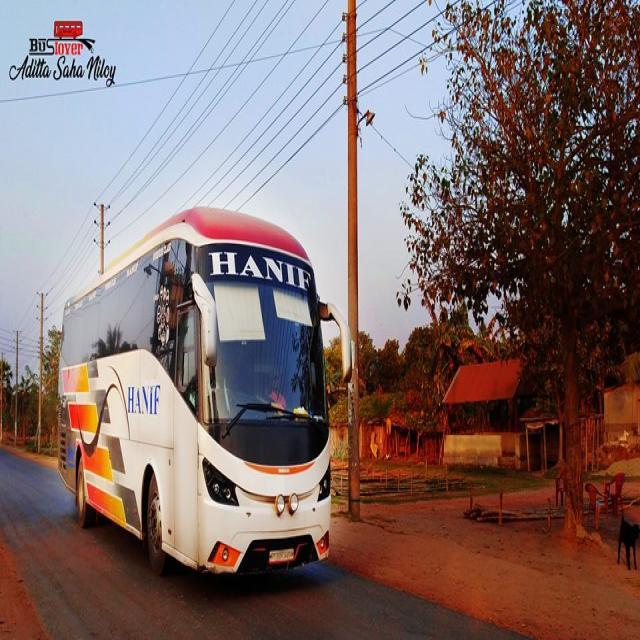Bus: (54, 213, 353, 579)
